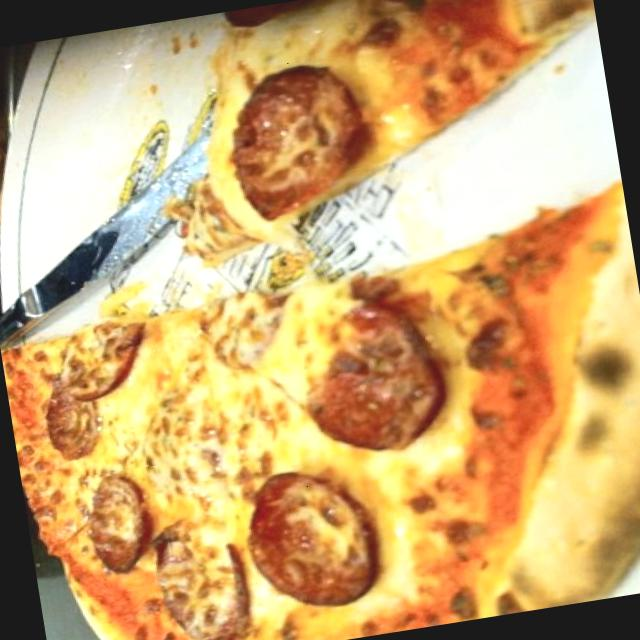pepperoni: (202, 51, 386, 230), (282, 293, 450, 458), (234, 457, 395, 622), (140, 511, 270, 640), (69, 464, 177, 597), (34, 321, 172, 415), (29, 374, 113, 462)
pizza: (2, 0, 640, 640)
